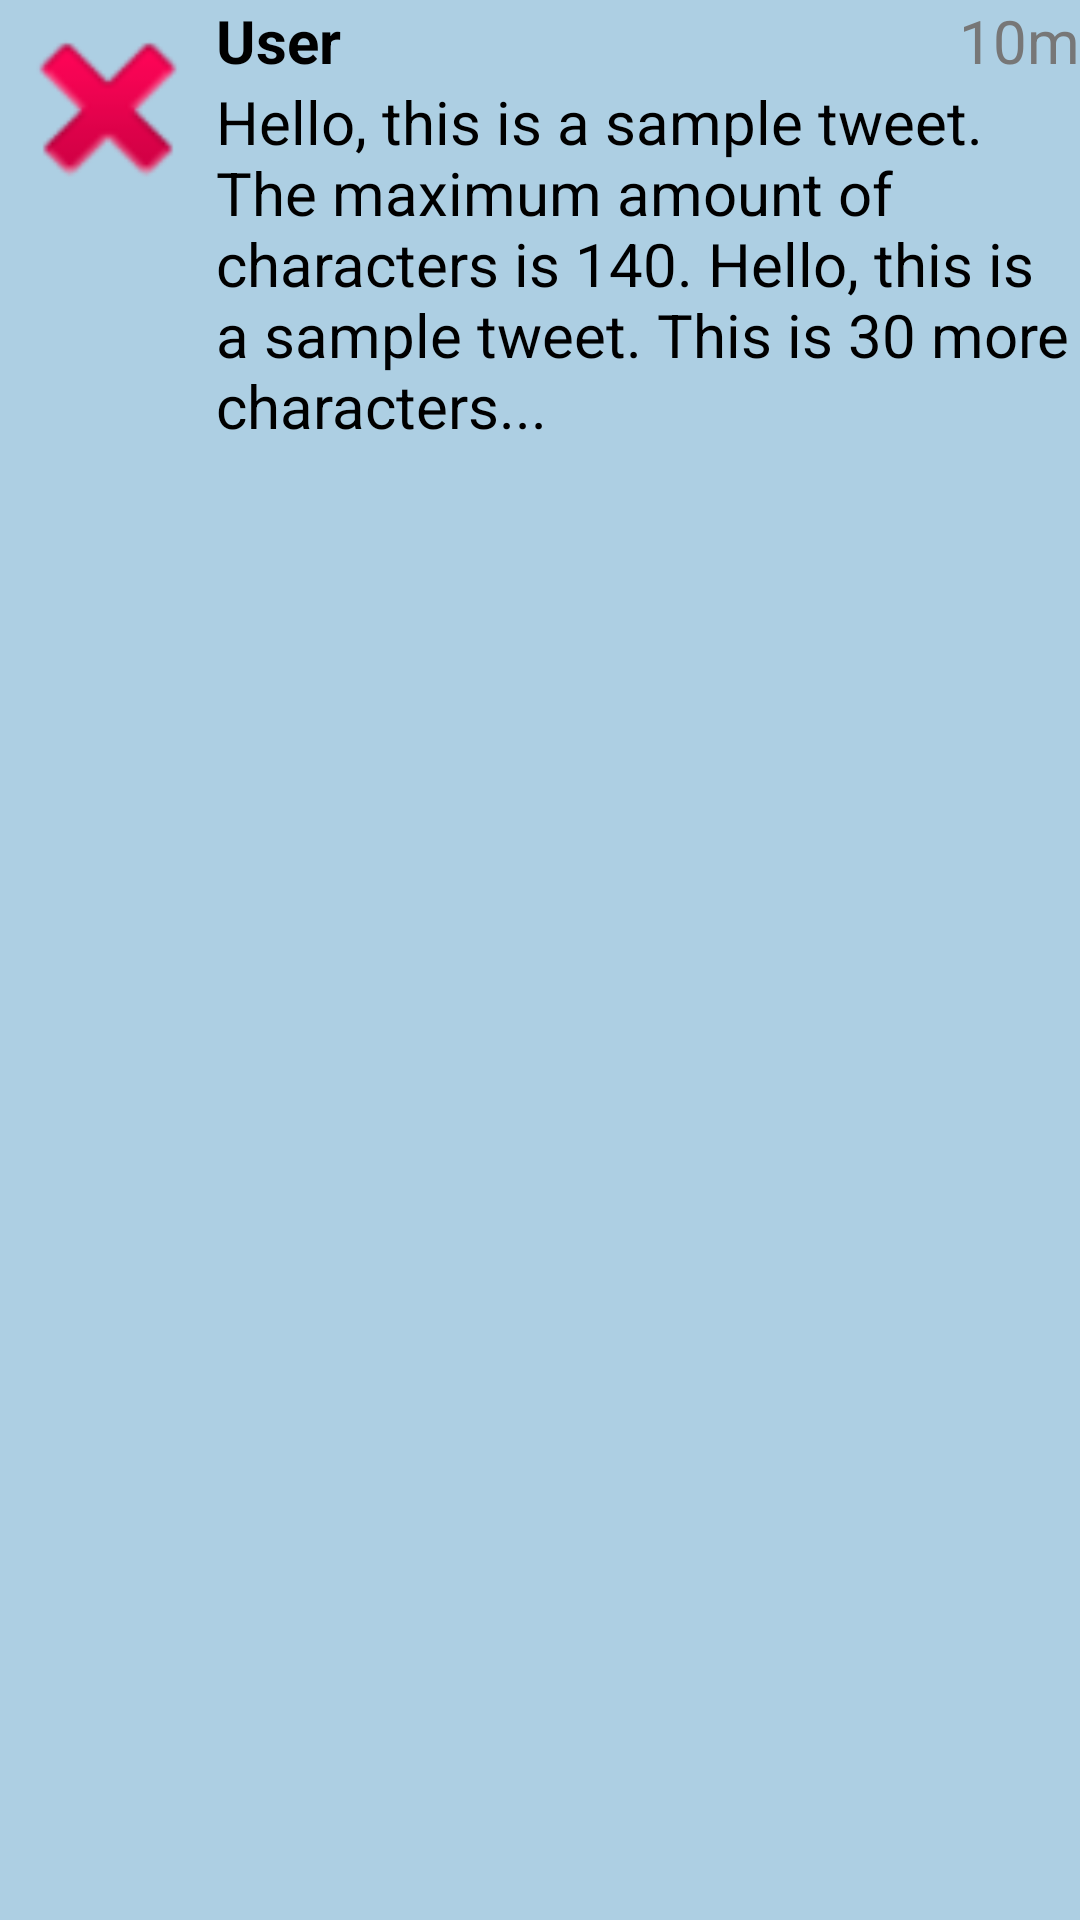

Icon click points for this 1080px x 1920px phone screenshot, format (x,y):
delete: (108,109)
